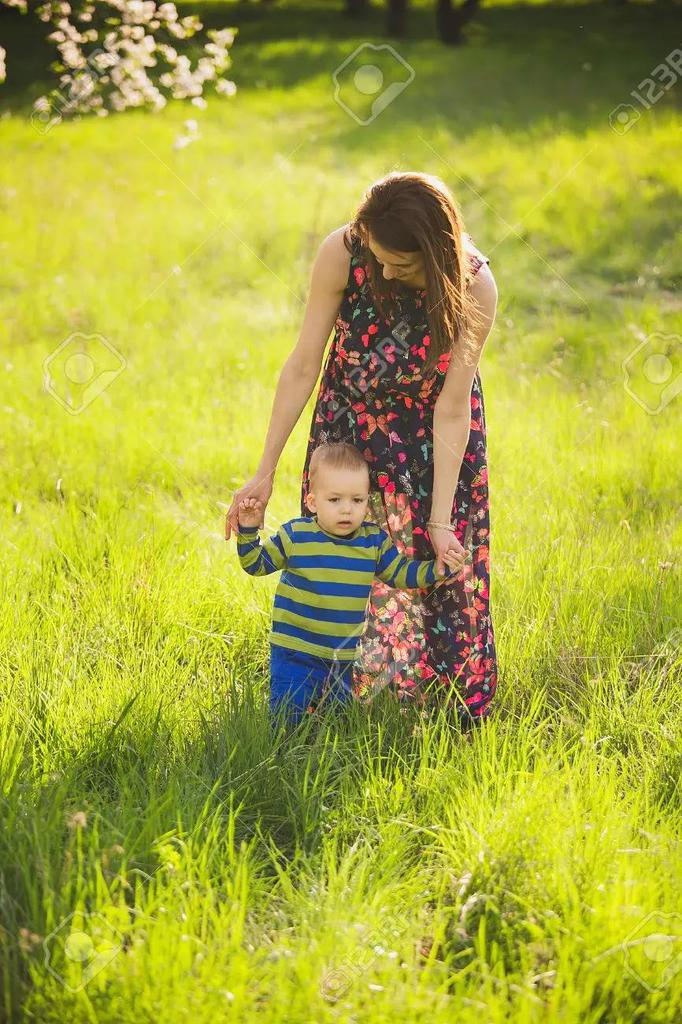child: (212, 440, 464, 738)
